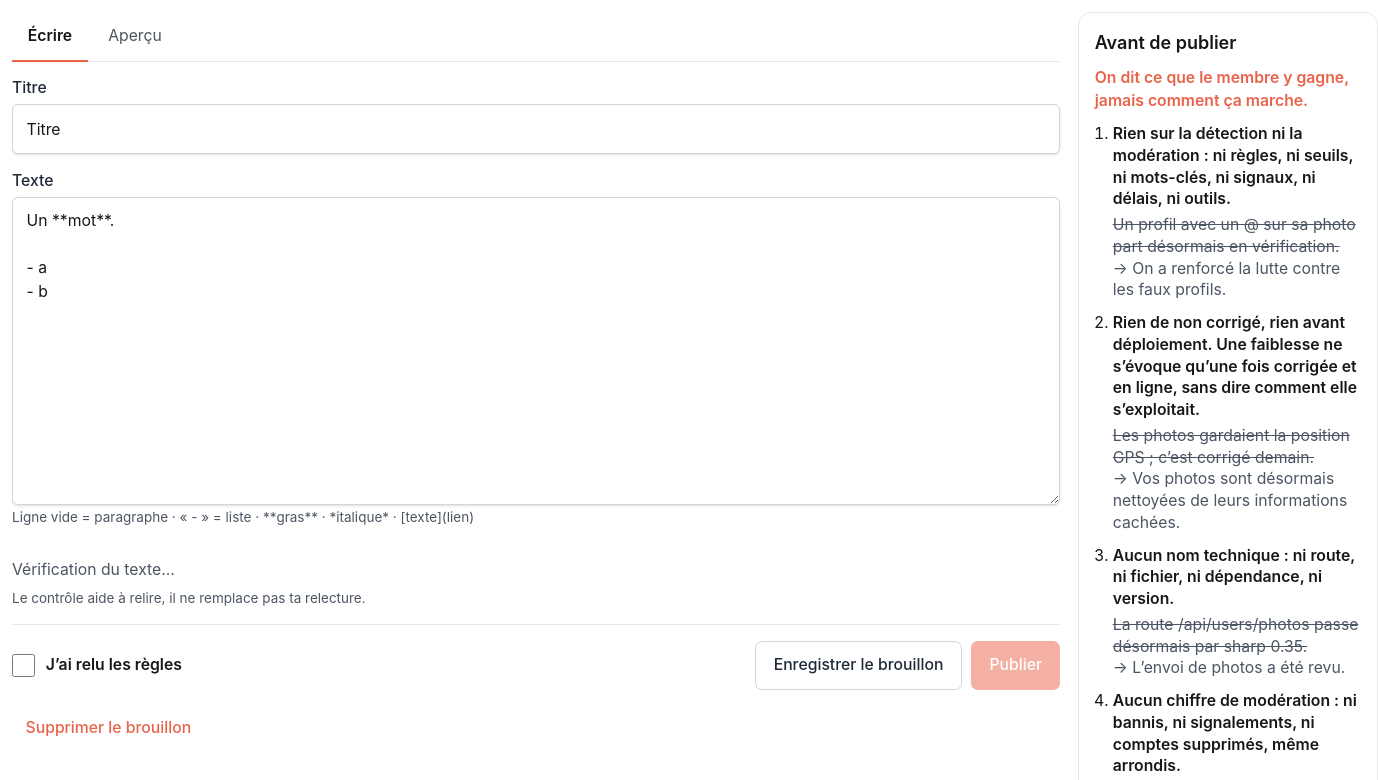
Scenario: <JournalEditeur /> › aperçu : rendu identique à la page publique
Click the tab "Aperçu" at (135, 37), box [92,12,178,62]
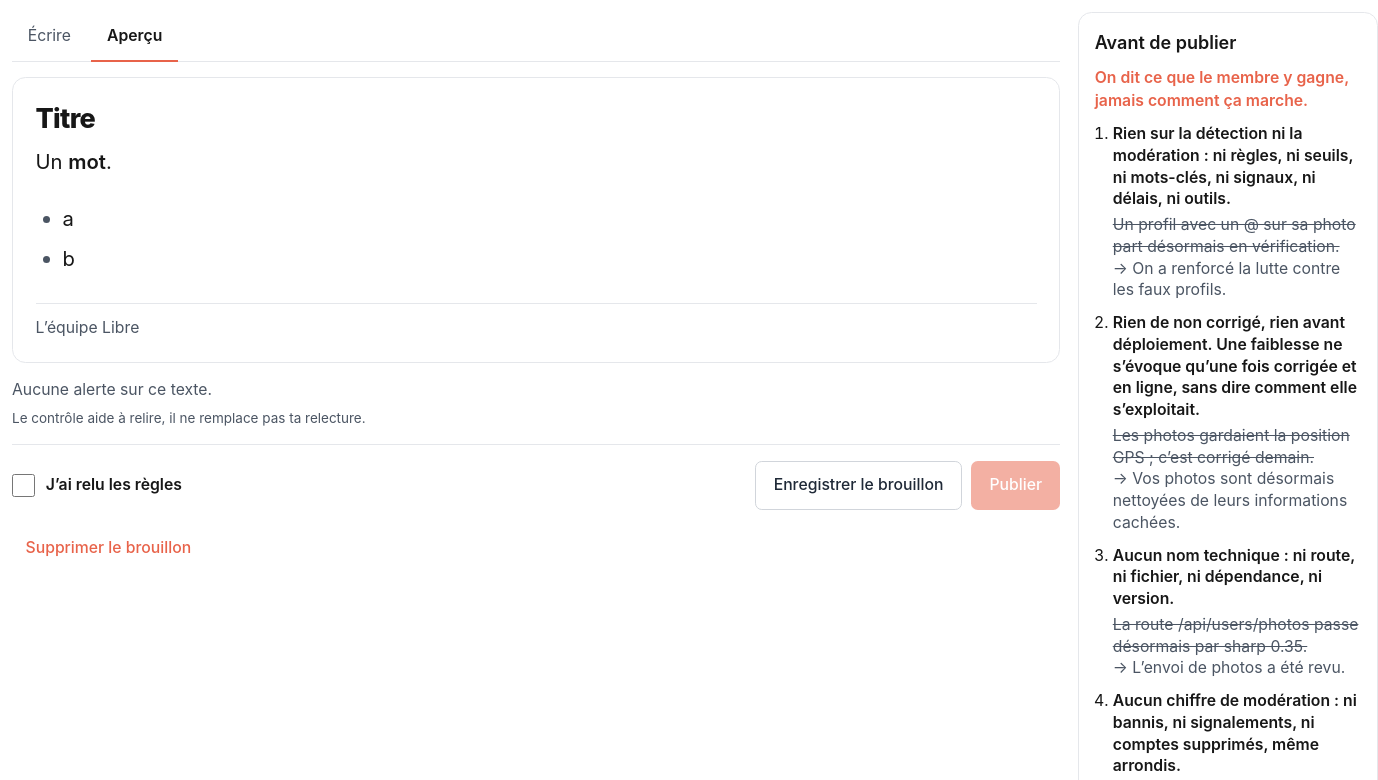
expect the text "mot" is shown: met, box [68,149,106,174]
